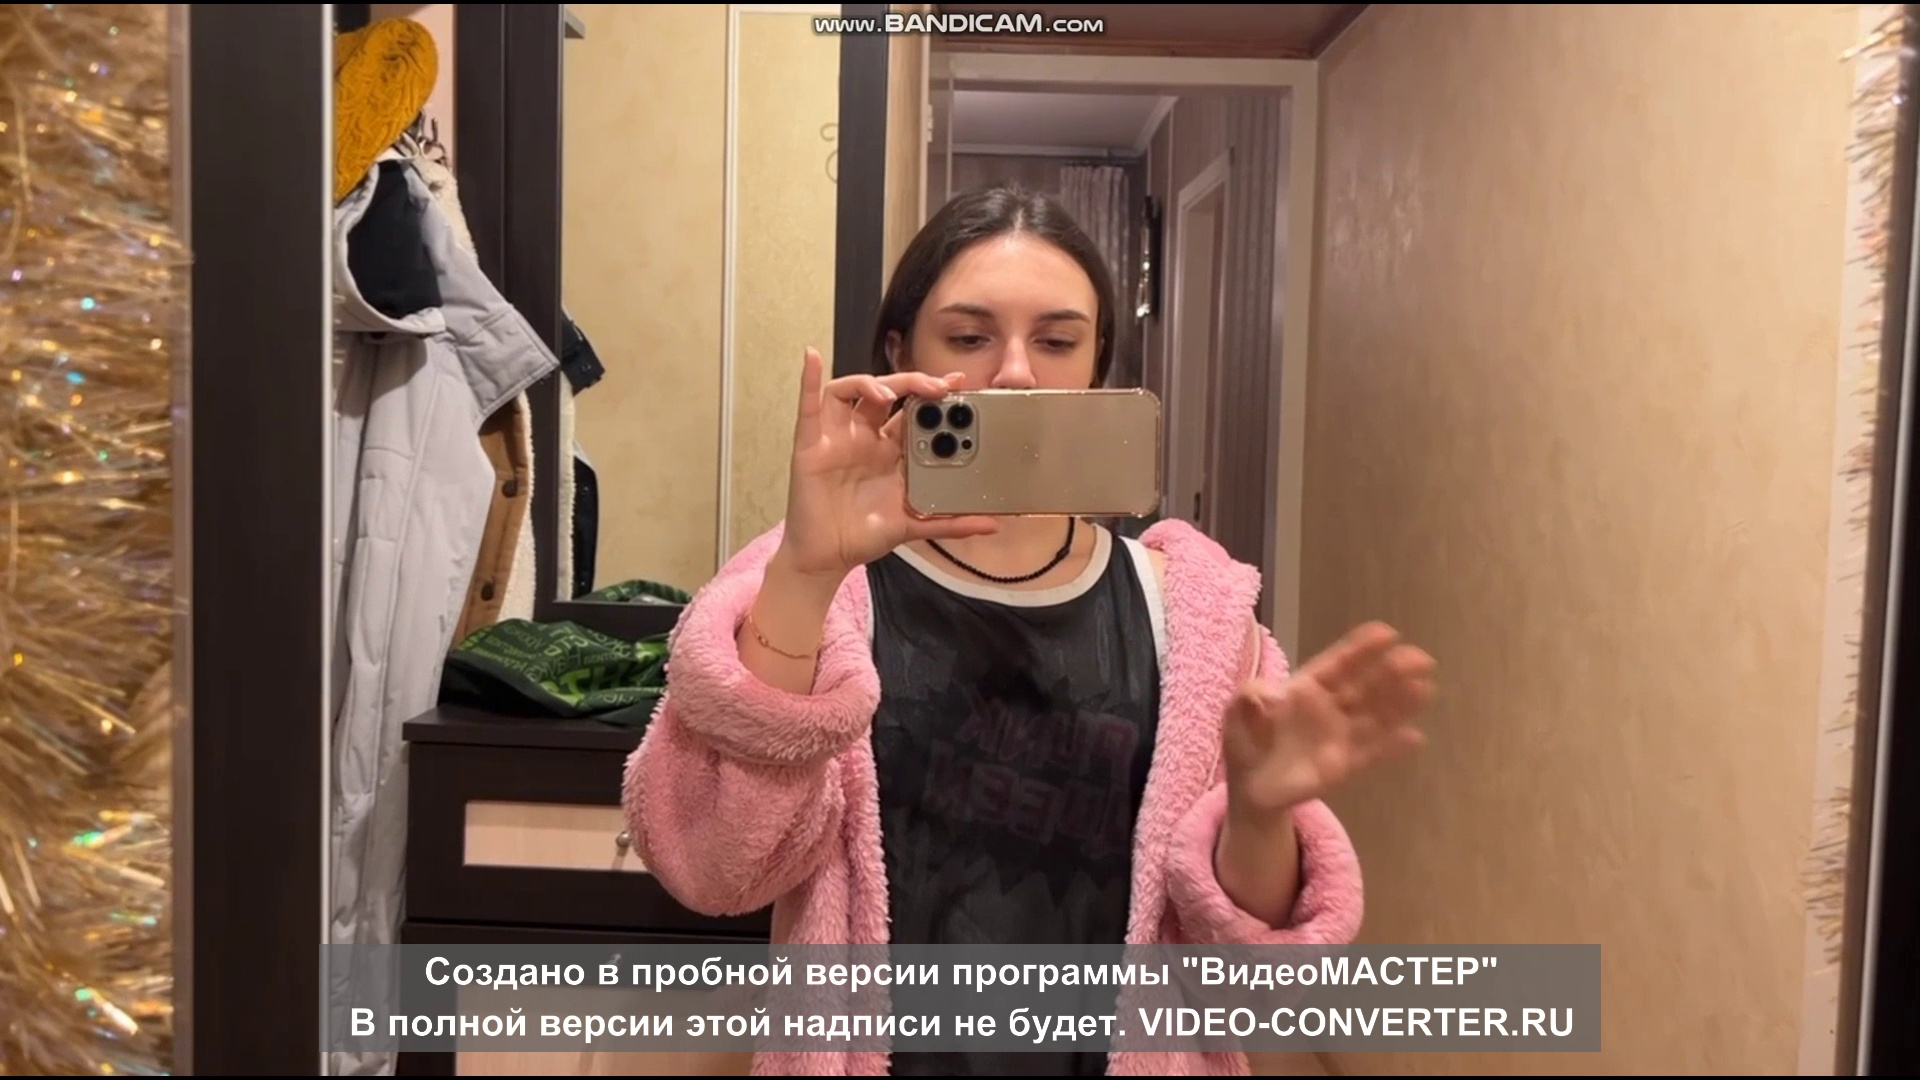Ладонь: (1216, 620, 1436, 812)
